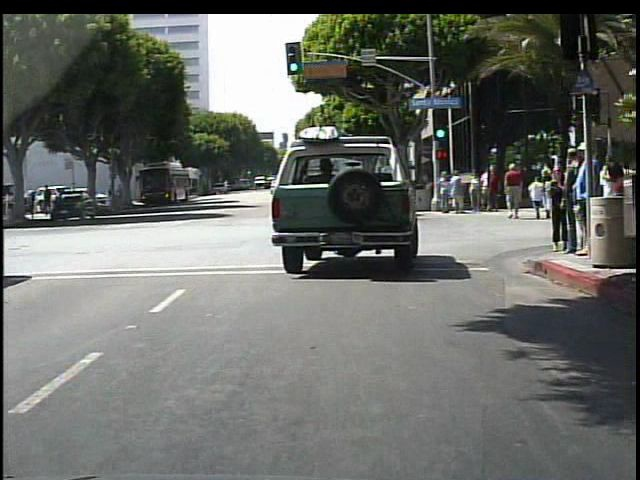person: (573, 142, 599, 263), (547, 161, 573, 254), (562, 148, 581, 257), (524, 169, 551, 225), (505, 164, 526, 223), (542, 168, 557, 219), (453, 168, 468, 217), (491, 168, 504, 213), (480, 169, 493, 212), (482, 166, 494, 211), (438, 169, 450, 213), (106, 184, 117, 207), (117, 183, 125, 209)
